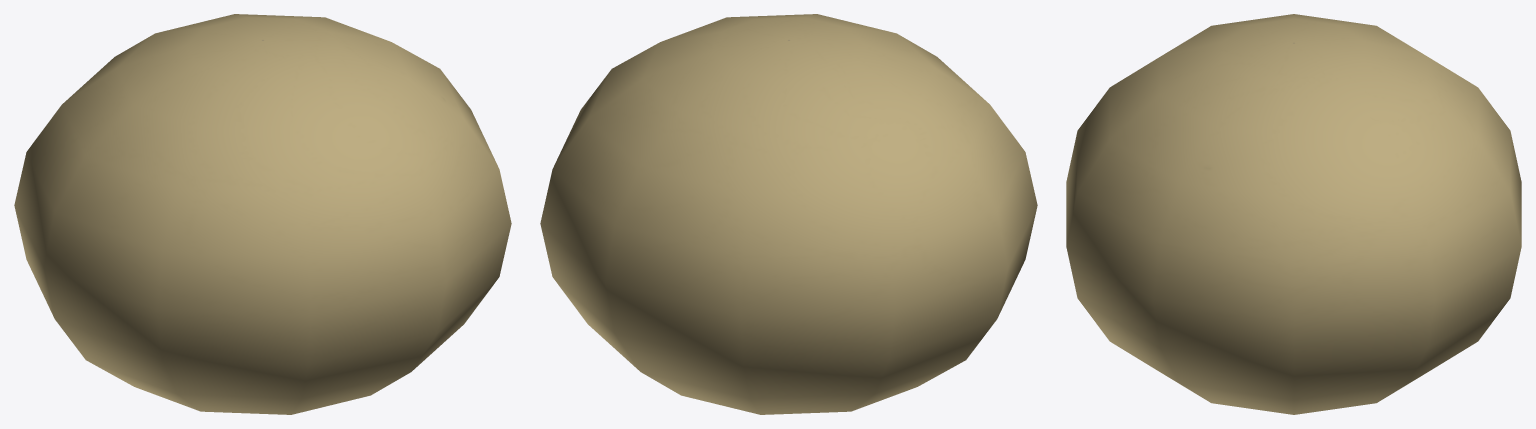
The model's file is richguy_circle_nose.fbx.
3 renders of one model, left to right at view 1: azimuth 30°, elevation 25°; view 2: azimuth 150°, elevation 25°; view 3: azimuth 270°, elevation 25°, orthographic.
Parts seen in each view (by area): view 1: pSphere3; view 2: pSphere3; view 3: pSphere3.
Boxes of the visible parts, x1,y1,x2,y2 form: pSphere3: (14,14,511,414); pSphere3: (540,14,1037,414); pSphere3: (1066,14,1521,414).
Bounding box in the file's own units: 3.78 × 2.88 × 3.46.
